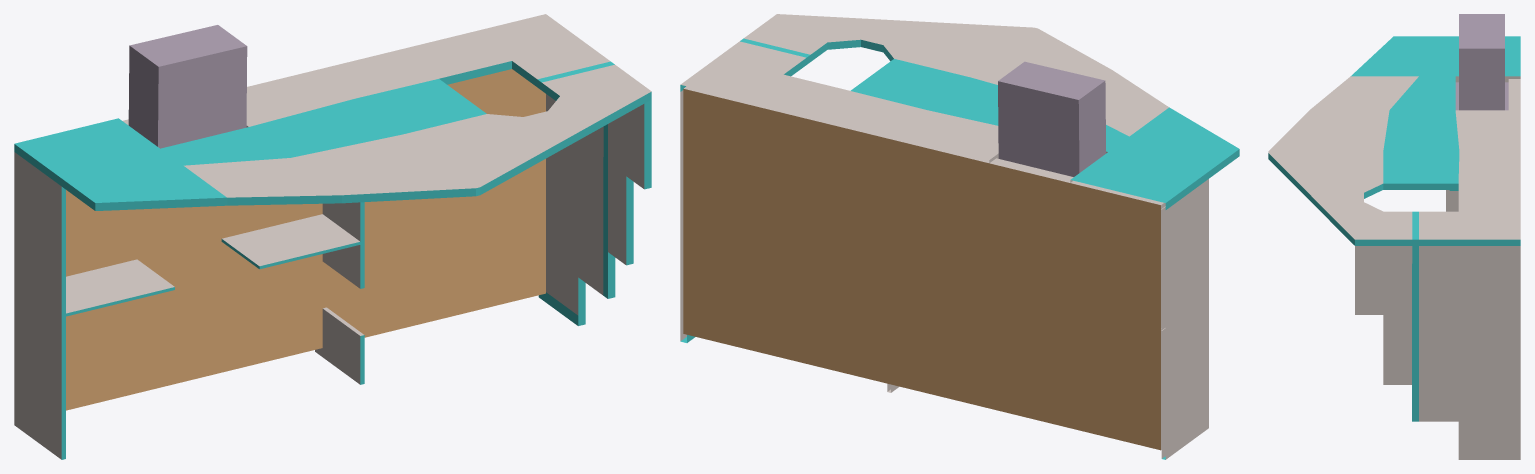
File: Dollhouse.fbx
The picture shows the model from 3 angles, left to right: view 1: azimuth 30°, elevation 25°; view 2: azimuth 150°, elevation 25°; view 3: azimuth 270°, elevation 25°; orthographic projection. The views are drawn at different scales.
Parts seen in each view (by area): view 1: House, Ground; view 2: Ground, House; view 3: House, Ground.
Part boxes in pixels (bbox=[...]): House: bbox=[14, 14, 651, 459]; Ground: bbox=[66, 69, 545, 410]; Ground: bbox=[683, 86, 1165, 450]; House: bbox=[680, 14, 1239, 459]; House: bbox=[1268, 14, 1520, 459]; Ground: bbox=[1508, 79, 1520, 110].
Size of the model in its own units: 33.6 by 21.82 by 17.64.
